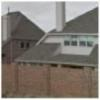chimneys: (54, 1, 67, 32)
